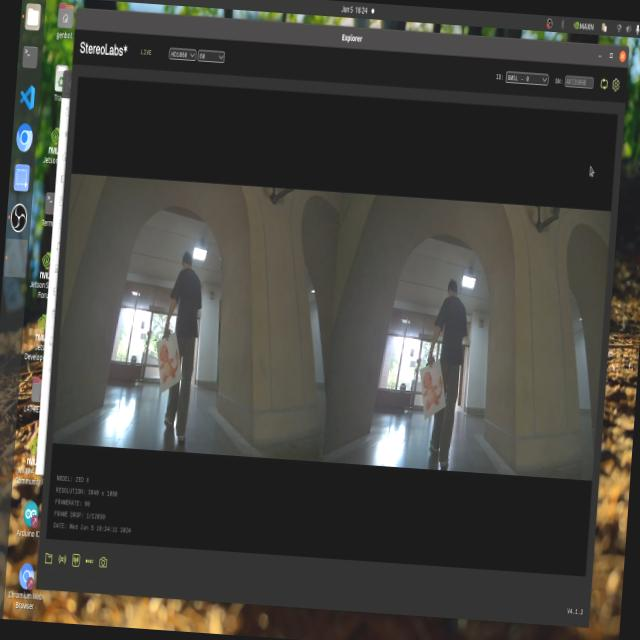red: (158, 340, 183, 380), (426, 367, 442, 410)
